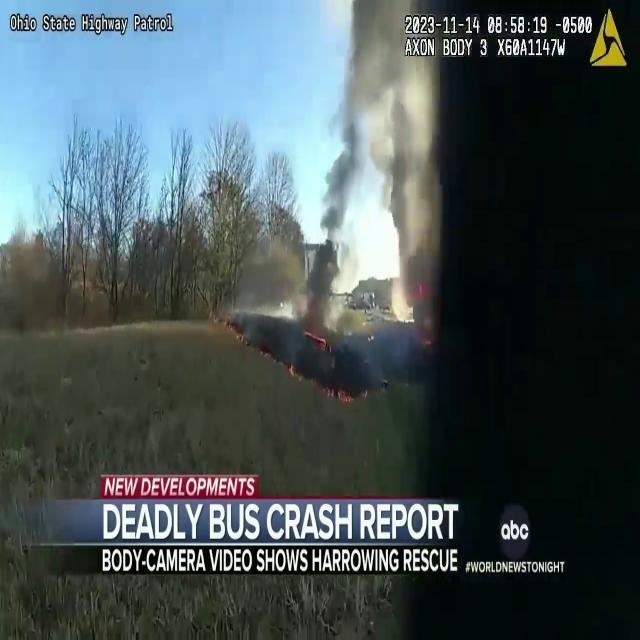Smoke: (310, 1, 448, 304)
